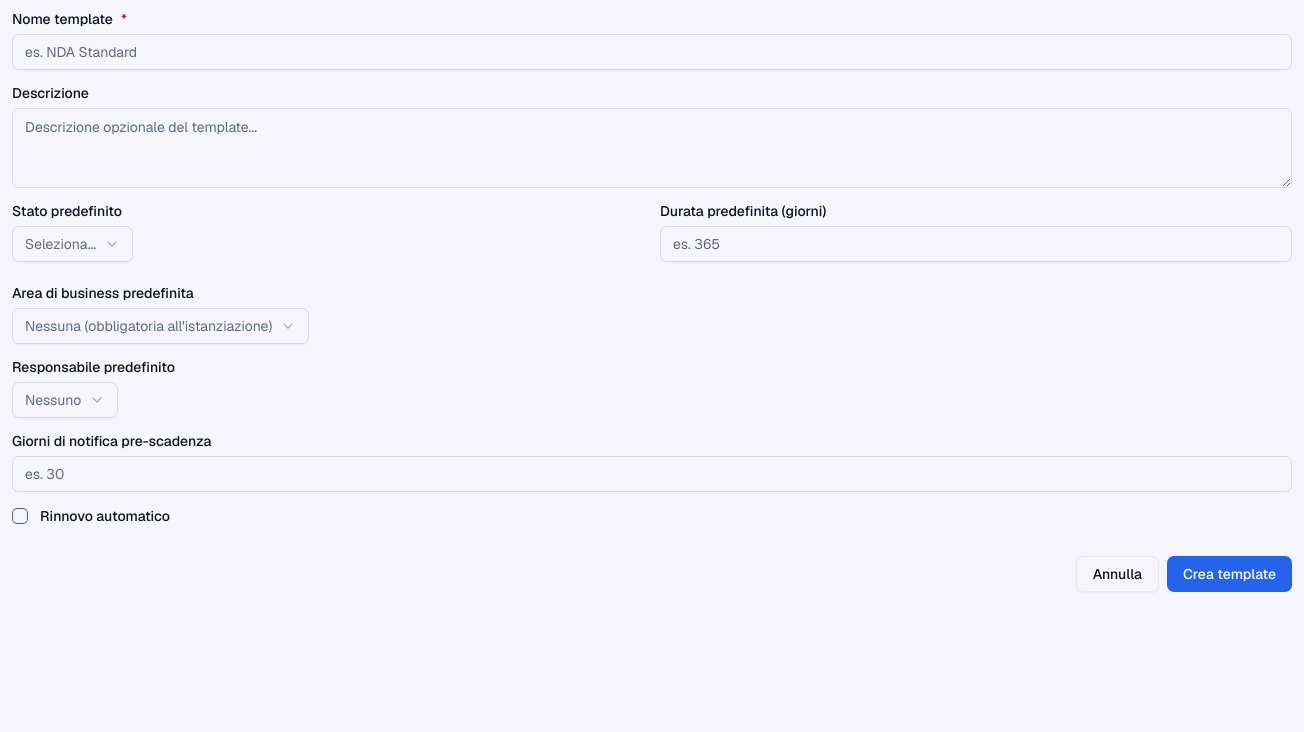
ContractTemplateForm › shows validation error when name is too short
In the field with placeholder "es. NDA Standard": {"x": 652, "y": 52} [12,34,1292,70], type "A"
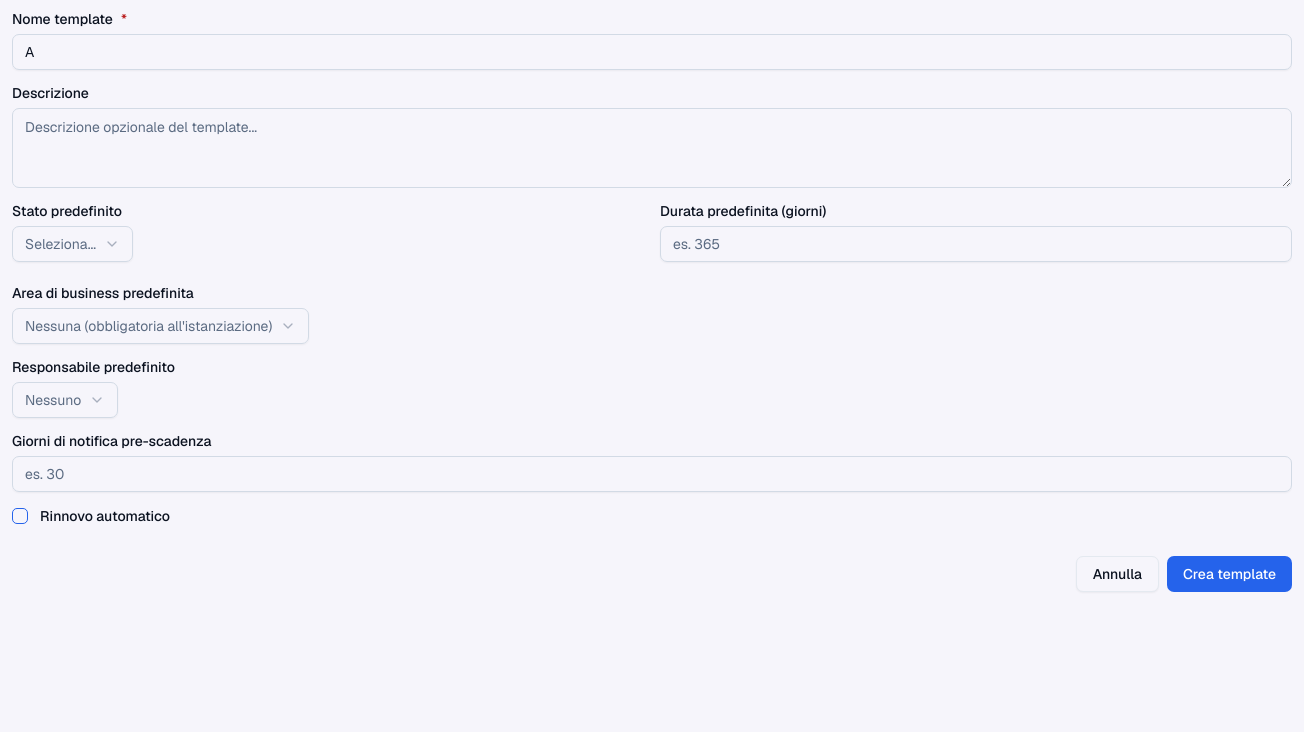
In the number field with placeholder "es. 365": {"x": 976, "y": 244} [660,226,1292,262], type "365"
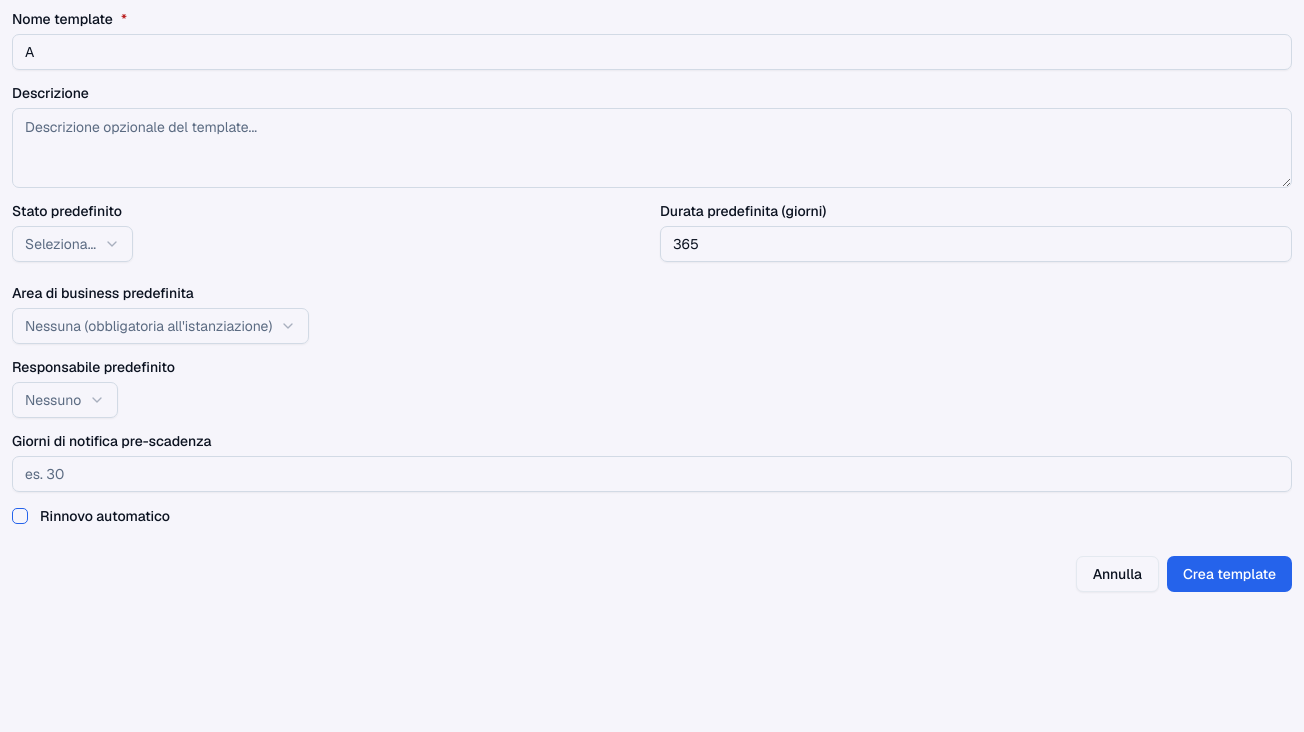
In the number field with placeholder "es. 30": {"x": 652, "y": 474} [12,456,1292,492], type "30"
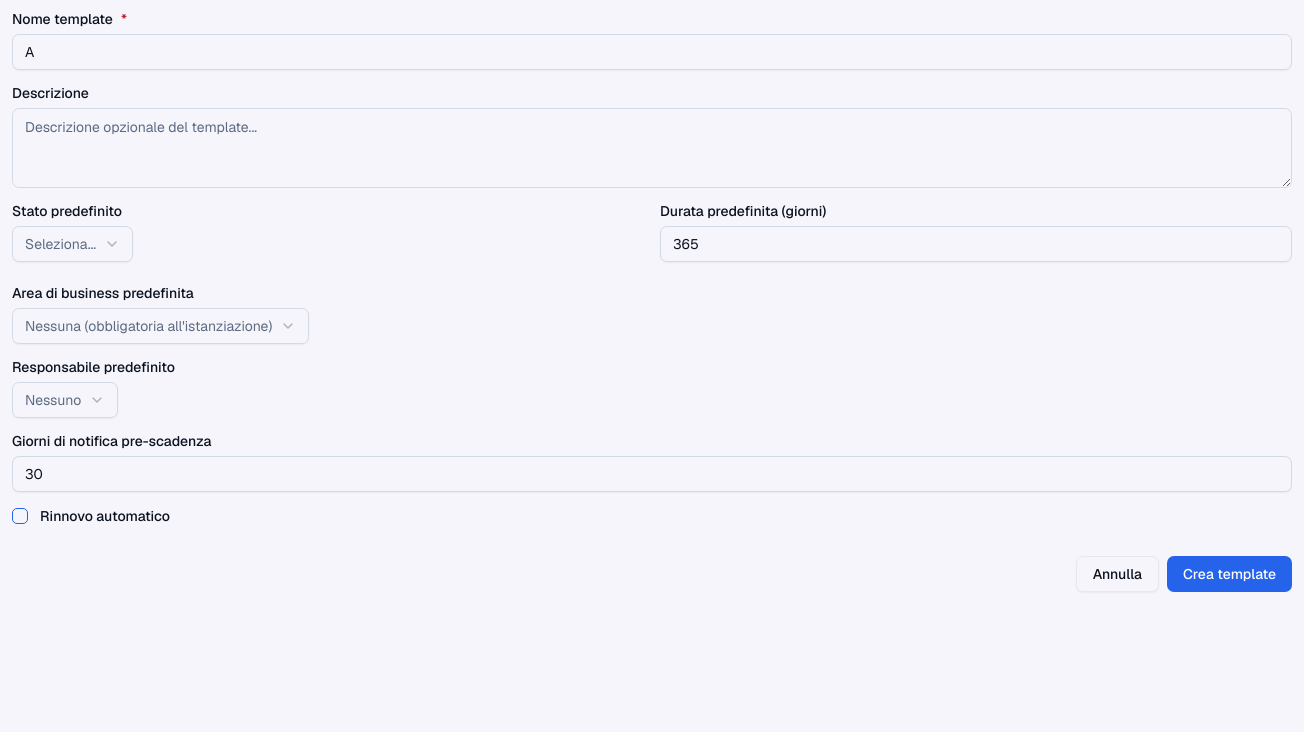
Submit the form
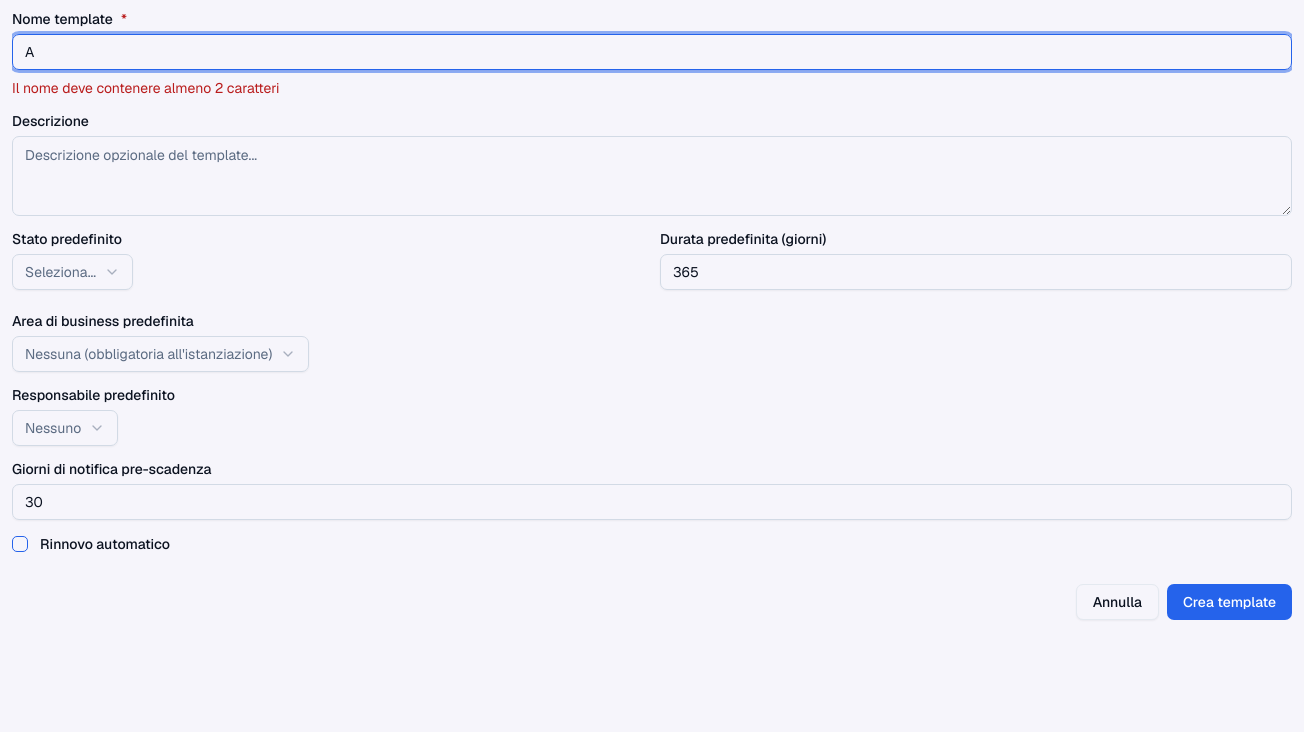
Expected: the text "Il nome deve contenere almeno 2 caratteri" is shown, [12,79,280,97]
